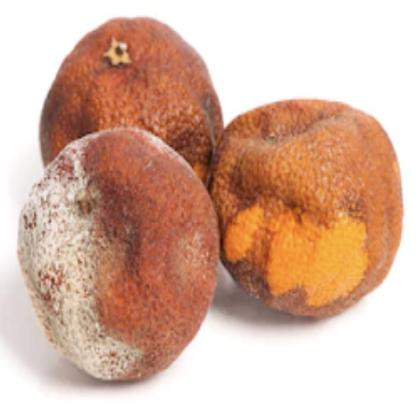rotten: (19, 16, 404, 383)
